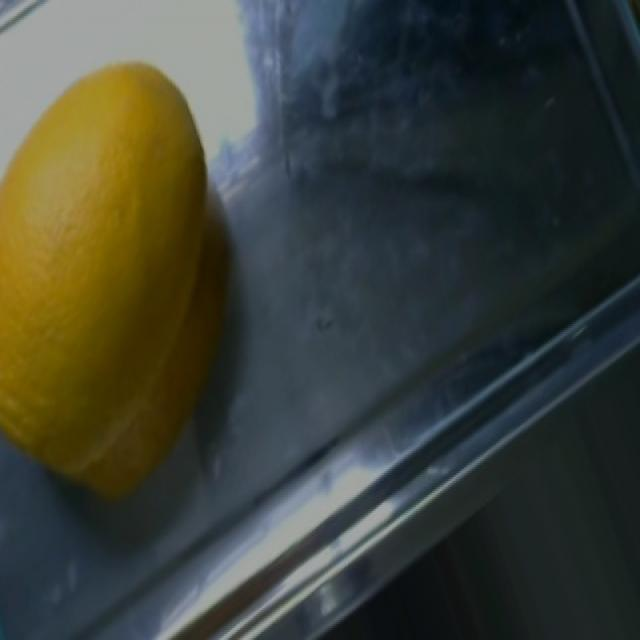Fruit: (1, 38, 236, 348)
